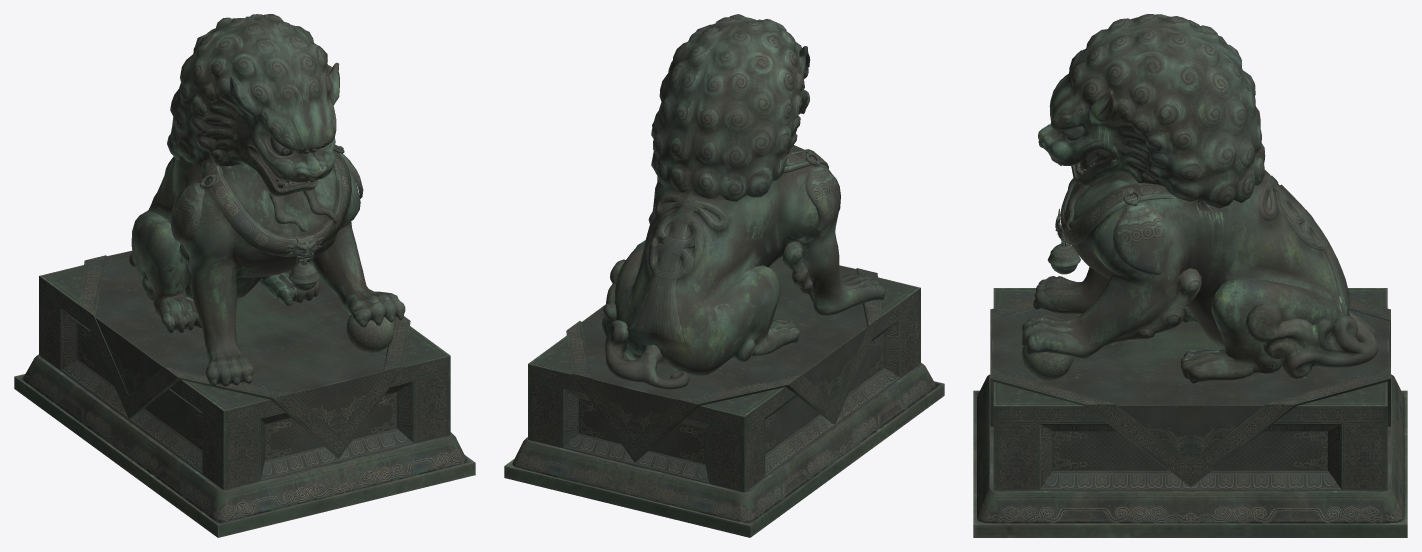
The model's file is stone_lion.glb.
The picture shows the model from 3 angles, left to right: view 1: azimuth 30°, elevation 25°; view 2: azimuth 150°, elevation 25°; view 3: azimuth 270°, elevation 25°; orthographic projection. The views are drawn at different scales.
Visible parts, largest first — view 1: ssz_2; view 2: ssz_2; view 3: ssz_2.
Part boxes in pixels (box(x1,y1,x2,y2)): ssz_2: box(14, 14, 475, 537); ssz_2: box(504, 14, 944, 537); ssz_2: box(973, 14, 1407, 537).
Size of the model in its own units: 69.46 by 109 by 95.1.
Materials: 1 (1 with a texture image).
